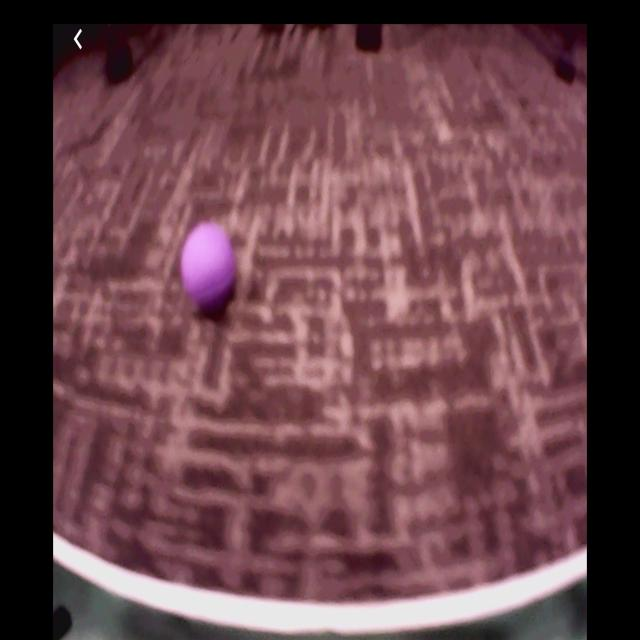ball: (180, 224, 237, 309)
